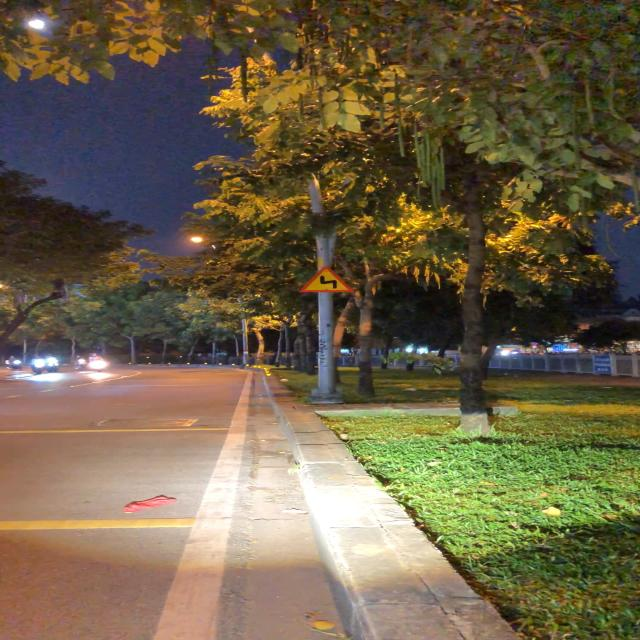Bien bao nhieu cho ngoat nguy hiem lien tiep: (298, 265, 358, 293)
